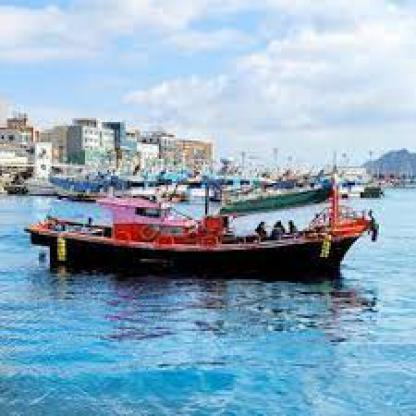fish-b: (17, 168, 386, 294)
